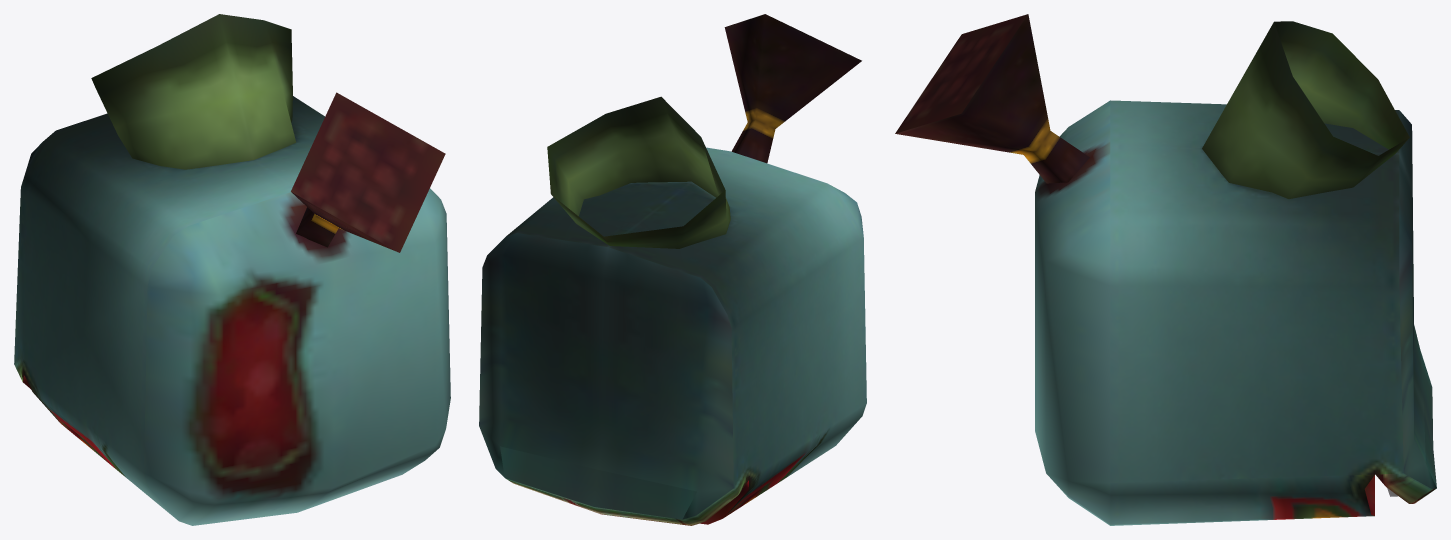
File: Zombie_Wrestler_H_Head_707a48e0__Zombie_Wrestler_Green_01_502f41ed_c1f257.obj
3 renders of one model, left to right at view 1: azimuth 30°, elevation 25°; view 2: azimuth 150°, elevation 25°; view 3: azimuth 270°, elevation 25°, orthographic. The views are drawn at different scales.
Size of the model in its own units: 0.8139 by 1.14 by 1.19.
1 material, 1 textured.
